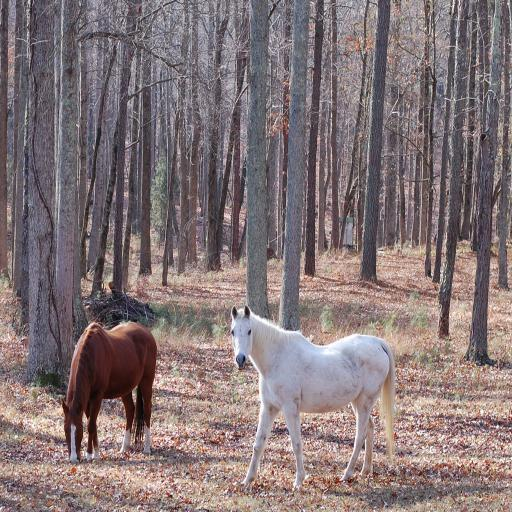horse: (229, 304, 397, 491), (60, 319, 158, 465)
